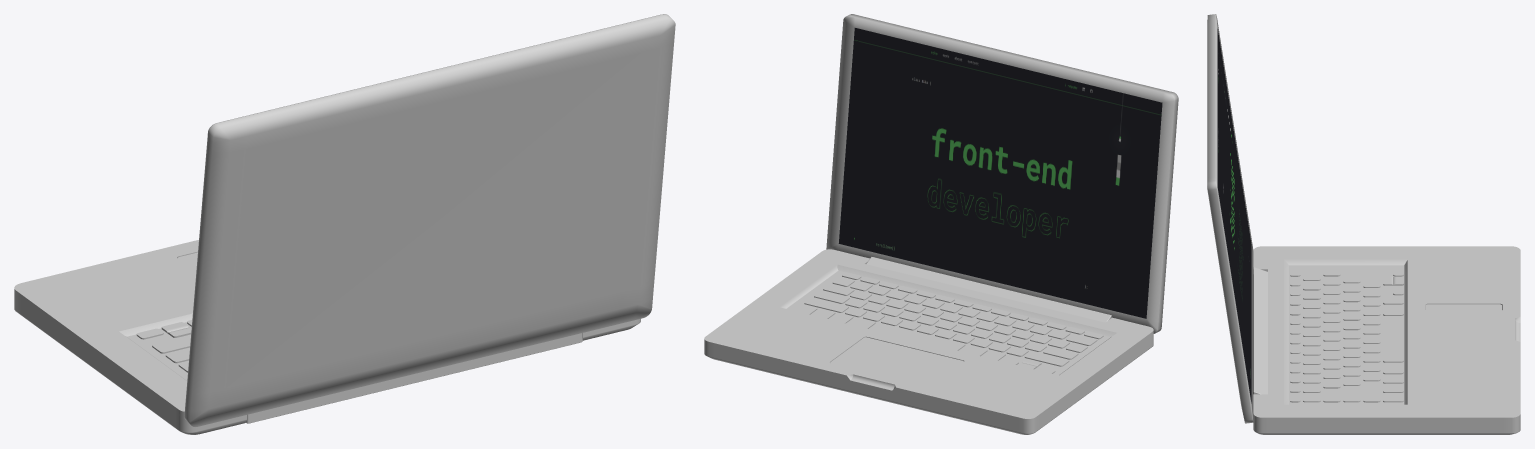
File: laptop.glb
The picture shows the model from 3 angles, left to right: view 1: azimuth 30°, elevation 25°; view 2: azimuth 150°, elevation 25°; view 3: azimuth 270°, elevation 25°; orthographic projection. The views are drawn at different scales.
Visible parts, largest first — view 1: Cube.002_Cube.009, Cube.004, Cube.007_Cube.005, Cube.001, Cube.035, Cube.005_Cube.006; view 2: Cube.004, Cube.007_Cube.005, Cube.005_Cube.006, Cube.001, Cube.035; view 3: Cube.007_Cube.005, Cube.005_Cube.006, Cube.004, Cube.035, Cube.001.
Boxes of the visible parts, x1,y1,x2,y2 form: Cube.002_Cube.009: (226,52,642,387); Cube.004: (184,14,675,426); Cube.007_Cube.005: (14,240,640,434); Cube.001: (246,333,582,423); Cube.035: (91,334,186,396); Cube.005_Cube.006: (136,320,192,372); Cube.004: (826,14,1178,333); Cube.007_Cube.005: (704,249,1153,434); Cube.005_Cube.006: (794,272,1103,373); Cube.001: (866,257,1111,322); Cube.035: (759,260,1137,379); Cube.007_Cube.005: (1253,246,1520,434); Cube.005_Cube.006: (1290,267,1403,402); Cube.004: (1207,14,1253,423); Cube.035: (1288,247,1403,416); Cube.001: (1253,267,1267,394).
Bounding box in the file's own units: 0.3669 × 0.2524 × 0.2826.
Materials: 10 (1 with a texture image).
